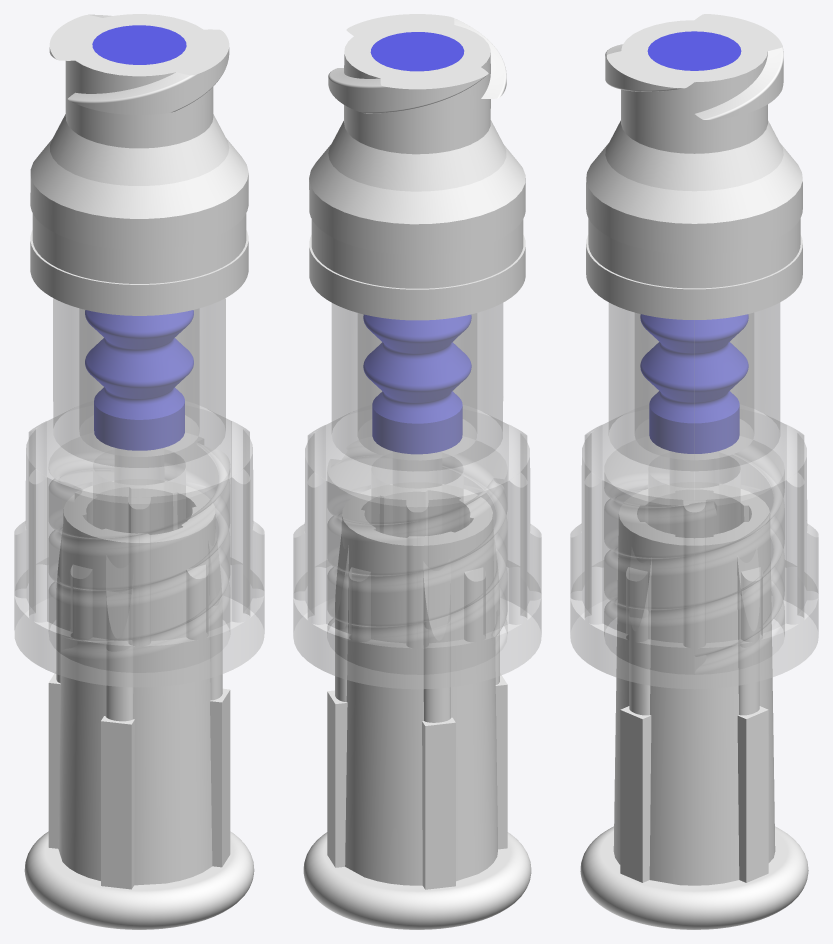
Rendered from BD_SmartSite.glb.
3 renders of one model, left to right at view 1: azimuth 30°, elevation 25°; view 2: azimuth 150°, elevation 25°; view 3: azimuth 270°, elevation 25°, orthographic.
Parts seen in each view (by area): view 1: plastico trans.001, plastico trans opaco, plastico branco, borracha azul; view 2: plastico trans.001, plastico trans opaco, plastico branco, borracha azul; view 3: plastico trans.001, plastico trans opaco, plastico branco, borracha azul.
Boxes of the visible parts, x1,y1,x2,y2 form: plastico trans.001: (14,298,264,687); plastico trans opaco: (24,479,254,929); plastico branco: (30,14,248,315); borracha azul: (85,25,193,450); plastico trans.001: (293,303,541,689); plastico trans opaco: (303,482,531,929); plastico branco: (309,14,525,320); borracha azul: (363,32,471,454); plastico trans.001: (570,303,818,689); plastico trans opaco: (580,482,808,929); plastico branco: (586,14,802,319); borracha azul: (640,31,748,453).
Size of the model in its own units: 0.011 by 0.0409 by 0.011.
